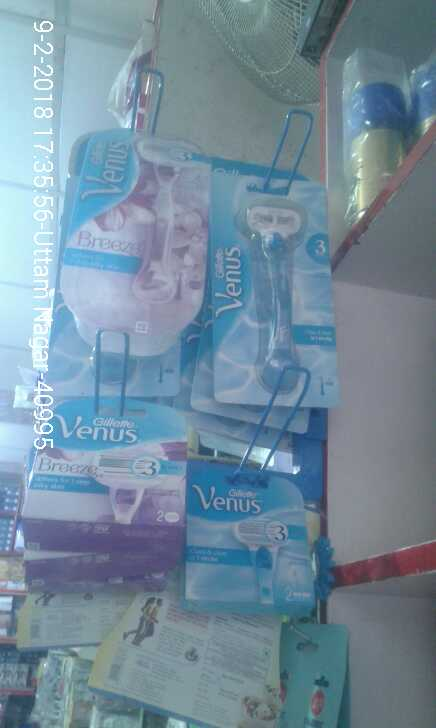venus: (66, 128, 223, 348), (216, 153, 343, 414), (176, 444, 322, 613), (33, 391, 194, 539)
